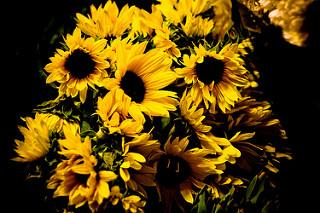sunflower: (104, 40, 177, 124), (176, 41, 248, 113), (45, 26, 110, 103)
